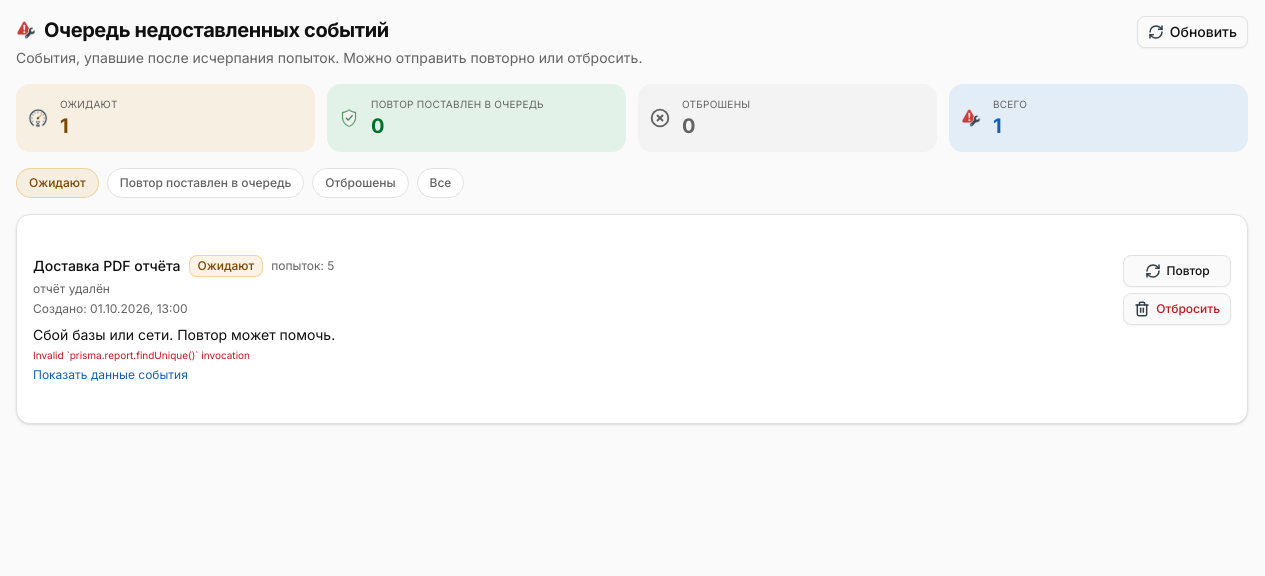
Test: AdminDlq: понятные тексты › тип события показывается по-русски, машинный код и id — в данных события
Expected: the text "Доставка PDF отчёта" is shown, [33,256,181,276]
Expected: the text "ReportPdfDeliveryRequested" is not shown
Click the button "Показать данные события".
click(110, 375)  # box [33,367,188,383]
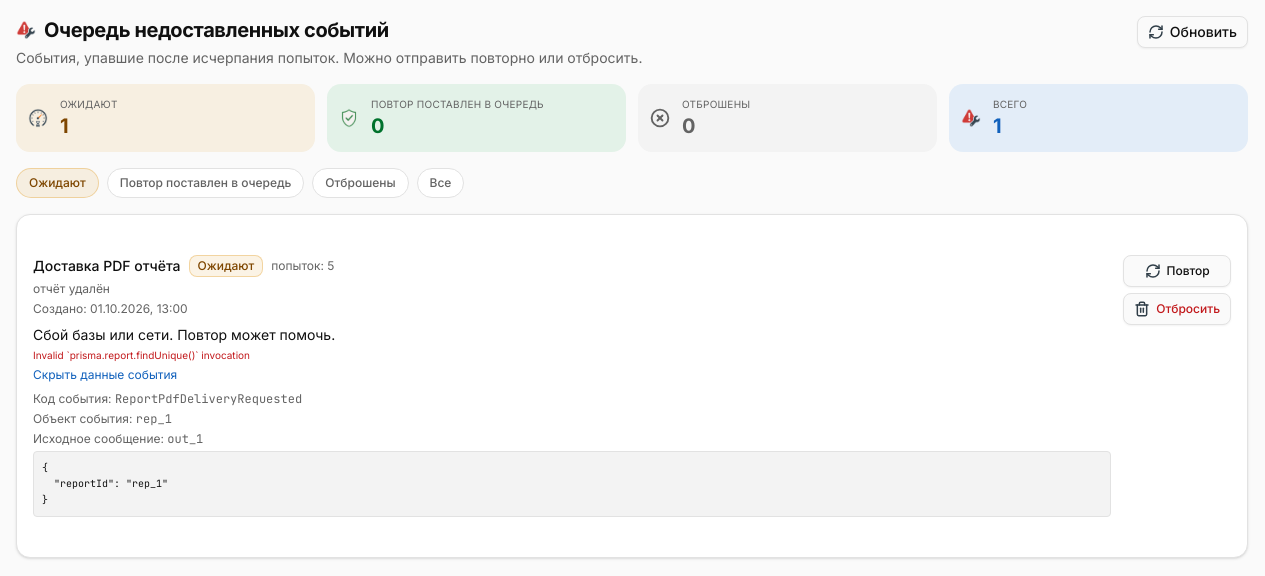
Expected: the text "ReportPdfDeliveryRequested" is shown, [115,391,302,407]
Expected: the text "rep_1" is shown, [136,411,172,427]
Expected: the text "out_1" is shown, [167,431,203,447]
